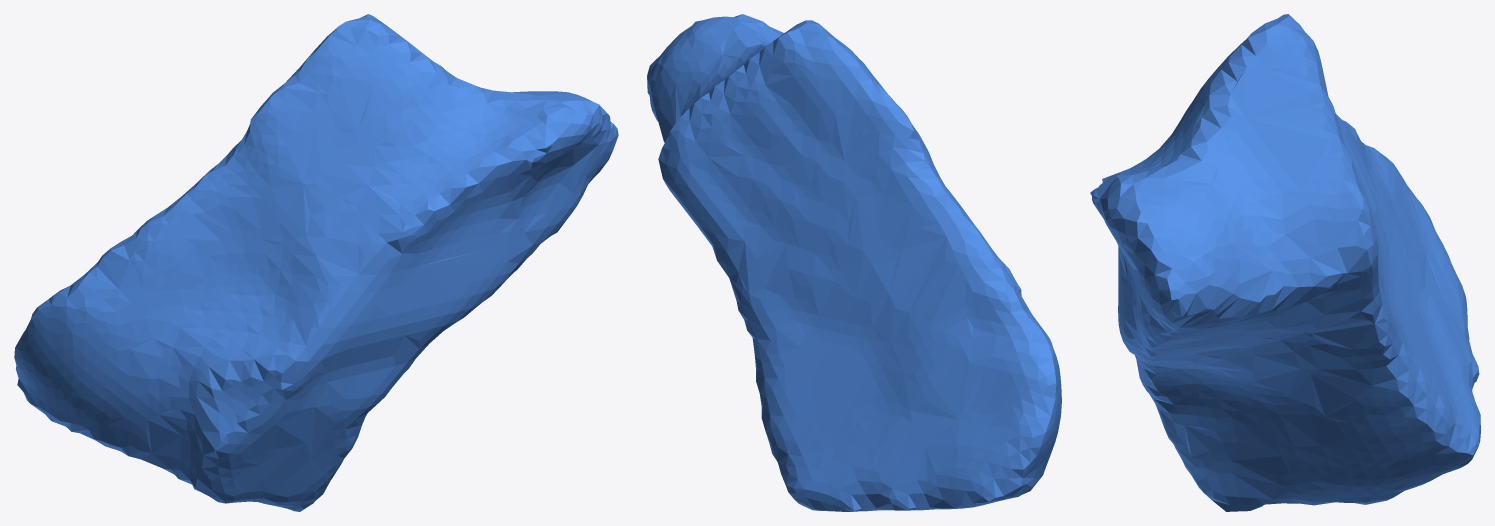
Rendered from Model_10074_LH__Area_47_(old_12)_of_cortex__medial_part_(A47M).obj.
3 views of the same model, side by side, from view 1: azimuth 30°, elevation 25°; view 2: azimuth 150°, elevation 25°; view 3: azimuth 270°, elevation 25° (orthographic). The views are drawn at different scales.
Bounding box in the file's own units: 3.69 × 3.2 × 2.1.
